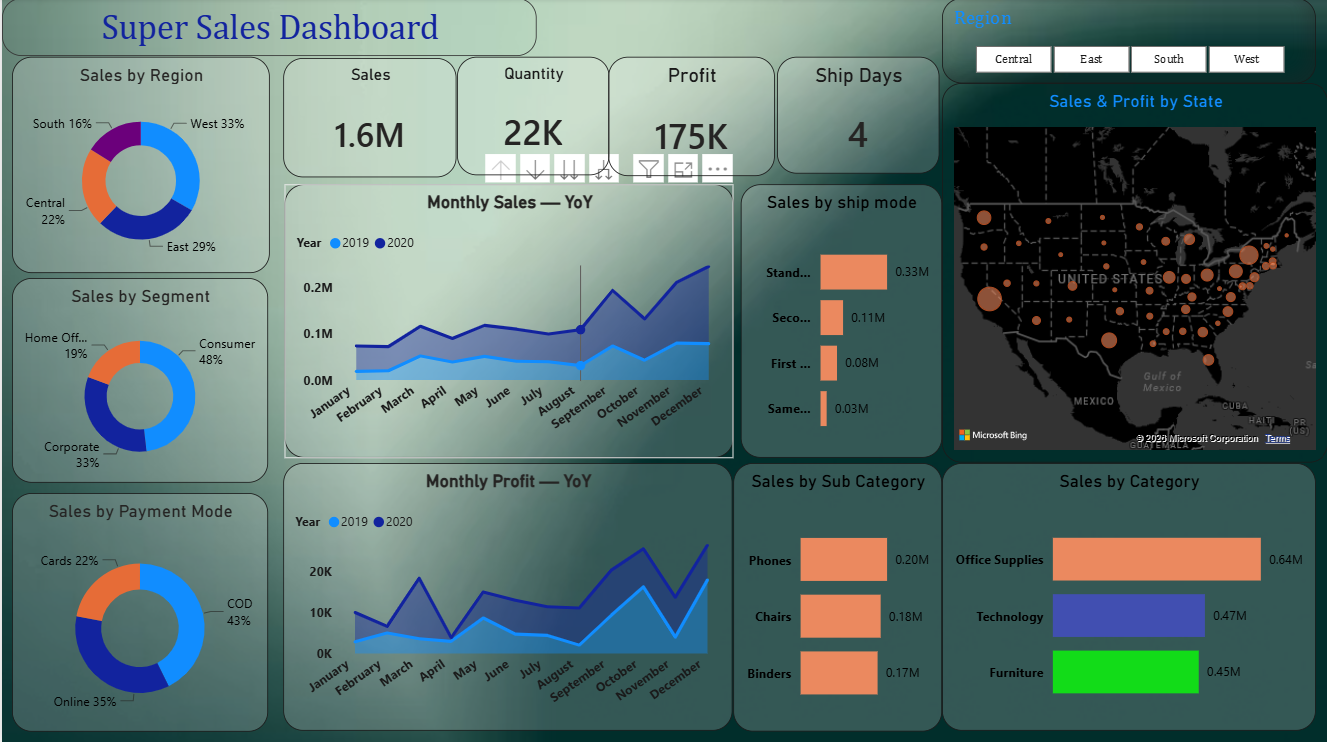

The dashboard page shown, as its layout file describes it:
{"tool":"powerbi","page":{"name":"Page 1","canvas":[1280,720],"ordinal":0},"visuals":[{"type":"clusteredBarChart","title":"Sales by Category","fields":{"Category":["SuperStore_Sales_Dataset.Category"],"Y":["Sum(SuperStore_Sales_Dataset.Sales)"]},"box":[907.2,448.8,360.7,258.2],"z":0},{"type":"clusteredBarChart","title":"Sales by Sub Category","fields":{"Category":["SuperStore_Sales_Dataset.Sub-Category"],"Y":["Sum(SuperStore_Sales_Dataset.Sales)"]},"box":[705.8,448.8,201.5,259.4],"z":1000},{"type":"clusteredBarChart","title":"Sales by ship mode","fields":{"Category":["SuperStore_Sales_Dataset.Ship Mode"],"Y":["Sum(SuperStore_Sales_Dataset.Sales)"]},"box":[713,179.8,194.2,264.2],"z":2000},{"type":"stackedAreaChart","title":"Monthly Sales — YoY","fields":{"Y":["Sum(SuperStore_Sales_Dataset.Sales)"],"Category":["SuperStore_Sales_Dataset.Order Date.Variation.Date Hierarchy.Month","SuperStore_Sales_Dataset.Order Date.Variation.Date Hierarchy.Day"],"Series":["SuperStore_Sales_Dataset.Order Date.Variation.Date Hierarchy.Year"]},"box":[272.5,180,433.8,263.8],"z":3000},{"type":"stackedAreaChart","title":"Monthly Profit — YoY","fields":{"Category":["SuperStore_Sales_Dataset.Order Date.Variation.Date Hierarchy.Month","SuperStore_Sales_Dataset.Order Date.Variation.Date Hierarchy.Day"],"Series":["SuperStore_Sales_Dataset.Order Date.Variation.Date Hierarchy.Year"],"Y":["Sum(SuperStore_Sales_Dataset.Profit)"]},"box":[271.2,448.8,433.8,258.8],"z":4000},{"type":"map","title":"Sales & Profit by State","fields":{"Category":["SuperStore_Sales_Dataset.State"],"Size":["Sum(SuperStore_Sales_Dataset.Sales)"]},"box":[907,82.3,373.2,366.4],"z":5000},{"type":"donutChart","title":"Sales by Segment","fields":{"Category":["SuperStore_Sales_Dataset.Segment"],"Y":["Sum(SuperStore_Sales_Dataset.Sales)"]},"box":[9.6,270.3,247,197.6],"z":6000},{"type":"donutChart","title":"Sales by Payment Mode","fields":{"Category":["SuperStore_Sales_Dataset.Payment Mode"],"Y":["Sum(SuperStore_Sales_Dataset.Sales)"]},"box":[9.6,477.5,247,230.5],"z":7000},{"type":"slicer","title":"Region","fields":{"Values":["SuperStore_Sales_Dataset.Region"]},"box":[906.7,0,361.1,82.2],"z":8000},{"type":"textbox","title":"Super Sales Dashboard","box":[0,0,516,56.3],"z":9000},{"type":"cardVisual","title":"Sales","fields":{"Data":["Sum(SuperStore_Sales_Dataset.Sales)"]},"box":[271.7,57.6,167.4,115.3],"z":10000},{"type":"cardVisual","title":"Quantity","fields":{"Data":["Sum(SuperStore_Sales_Dataset.Quantity)"]},"box":[438.6,57.1,147.1,114.3],"z":11000},{"type":"cardVisual","title":"Profit","fields":{"Data":["Sum(SuperStore_Sales_Dataset.Profit)"]},"box":[584.6,56.3,160.5,115.3],"z":12000},{"type":"cardVisual","title":"Ship Days","fields":{"Data":["Avg(SuperStore_Sales_Dataset.AvgDelivery)"]},"box":[747.9,56.3,156.4,112.5],"z":13000},{"type":"donutChart","title":"Sales by Region","fields":{"Category":["SuperStore_Sales_Dataset.Region"],"Y":["Sum(SuperStore_Sales_Dataset.Sales)"]},"box":[10,57.1,248.6,208.6],"z":14000}]}

Visuals, with their boxes in screenshot pixels (x1, y1, x2, y2), scaled from the page's 1280x720 canvas onto the 1327x742 screenshot:
"Sales by Category" clusteredBarChart: region(941, 463, 1314, 729)
"Sales by Sub Category" clusteredBarChart: region(732, 463, 941, 730)
"Sales by ship mode" clusteredBarChart: region(739, 185, 941, 458)
"Monthly Sales — YoY" stackedAreaChart: region(283, 185, 732, 457)
"Monthly Profit — YoY" stackedAreaChart: region(281, 463, 731, 729)
"Sales & Profit by State" map: region(940, 85, 1326, 462)
"Sales by Segment" donutChart: region(10, 279, 266, 482)
"Sales by Payment Mode" donutChart: region(10, 492, 266, 730)
"Region" slicer: region(940, 0, 1314, 85)
"Super Sales Dashboard" textbox: region(0, 0, 535, 58)
"Sales" cardVisual: region(282, 59, 455, 178)
"Quantity" cardVisual: region(455, 59, 607, 177)
"Profit" cardVisual: region(606, 58, 772, 177)
"Ship Days" cardVisual: region(775, 58, 938, 174)
"Sales by Region" donutChart: region(10, 59, 268, 274)
